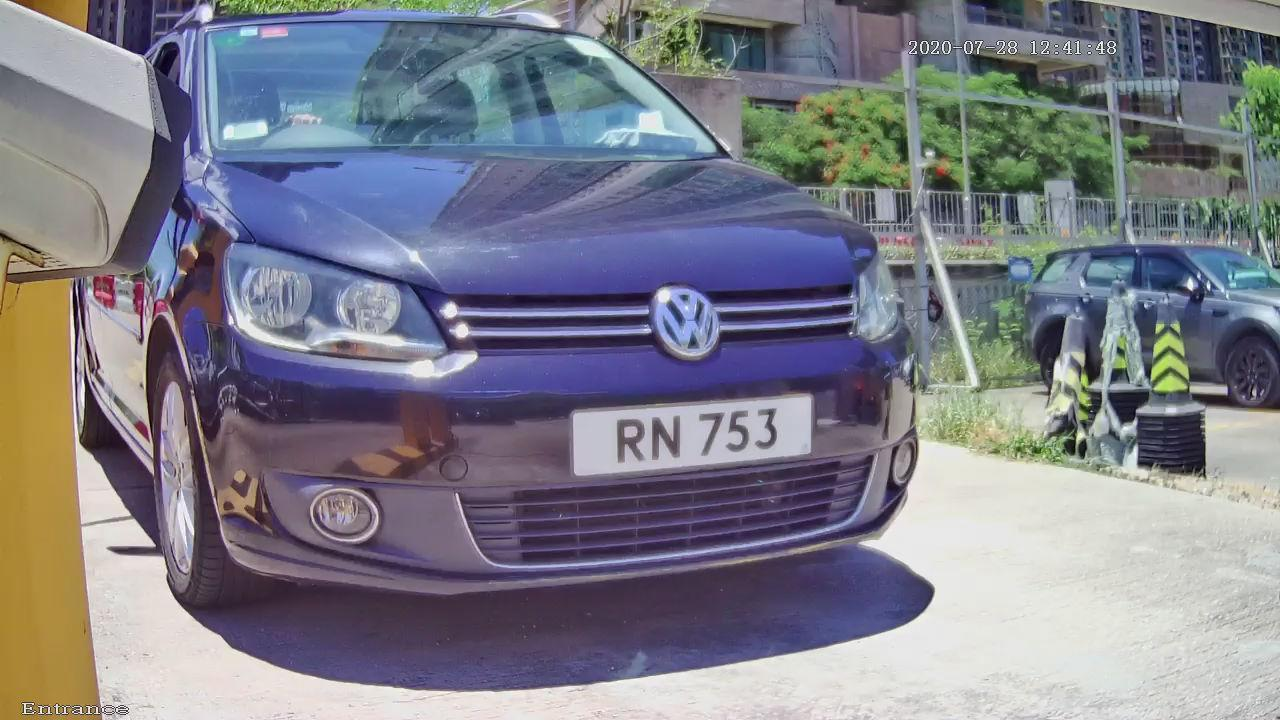privatecar: (35, 13, 1018, 685)
